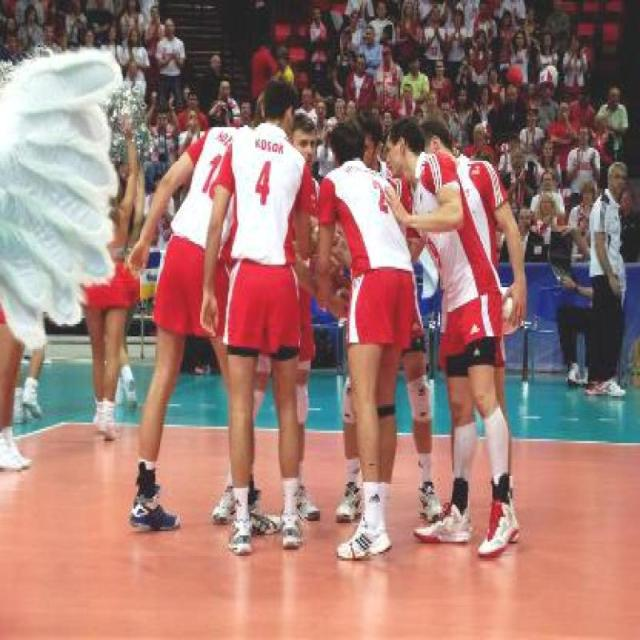volleyball: (503, 285, 517, 338)
